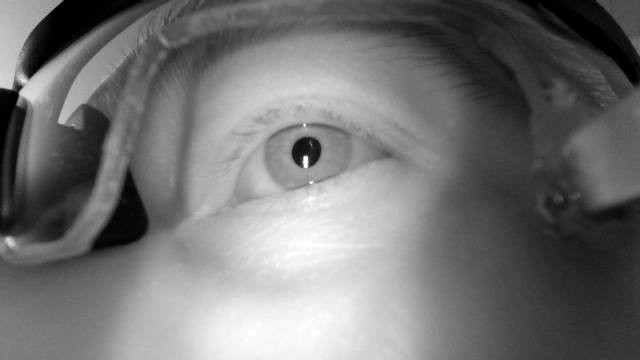pupil: (291, 136, 322, 169)
